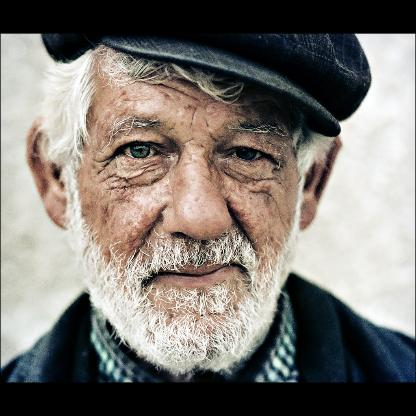Male: (25, 46, 340, 366)
